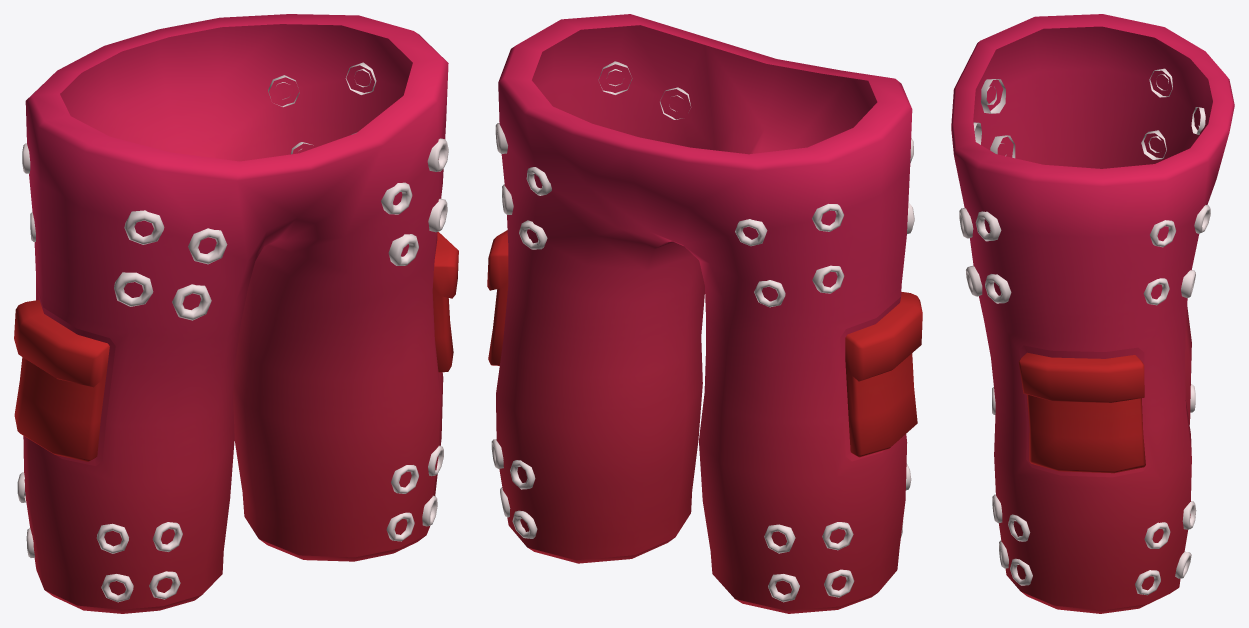
File: Pants_09.glb
3 renders of one model, left to right at view 1: azimuth 30°, elevation 25°; view 2: azimuth 150°, elevation 25°; view 3: azimuth 270°, elevation 25°, orthographic. The views are drawn at different scales.
Parts seen in each view (by area): view 1: Pants_09; view 2: Pants_09; view 3: Pants_09.
Boxes of the visible parts, bbox=[...] form: Pants_09: bbox=[14, 14, 458, 613]; Pants_09: bbox=[487, 14, 922, 613]; Pants_09: bbox=[951, 14, 1234, 613].
Size of the model in its own units: 0.2641 by 0.2935 by 0.1716.
1 material, 1 textured.
